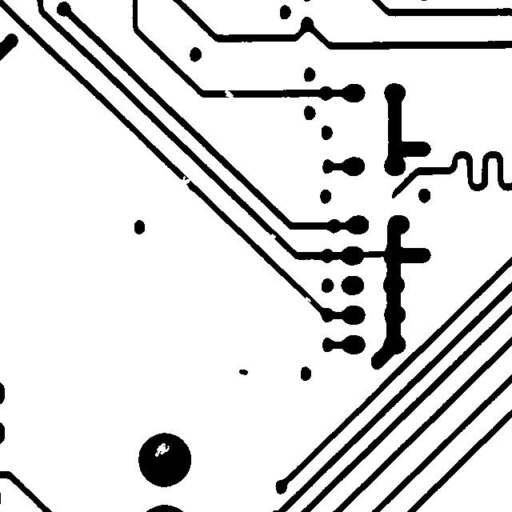copper: (231, 362, 255, 382)
mousebite: (298, 289, 318, 310), (263, 226, 283, 246)
open: (171, 168, 201, 191), (217, 82, 241, 106)
pin-hole: (147, 435, 177, 464)
short: (353, 243, 396, 265)
